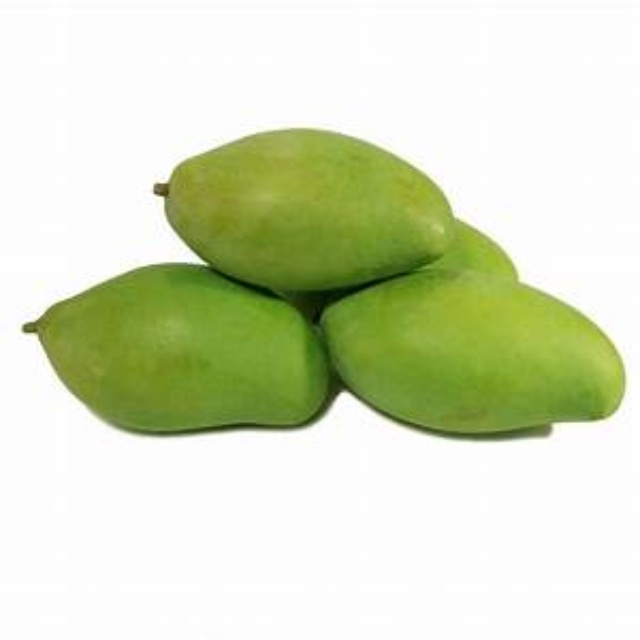mango: (318, 266, 632, 441), (24, 268, 331, 433), (155, 127, 451, 290)
